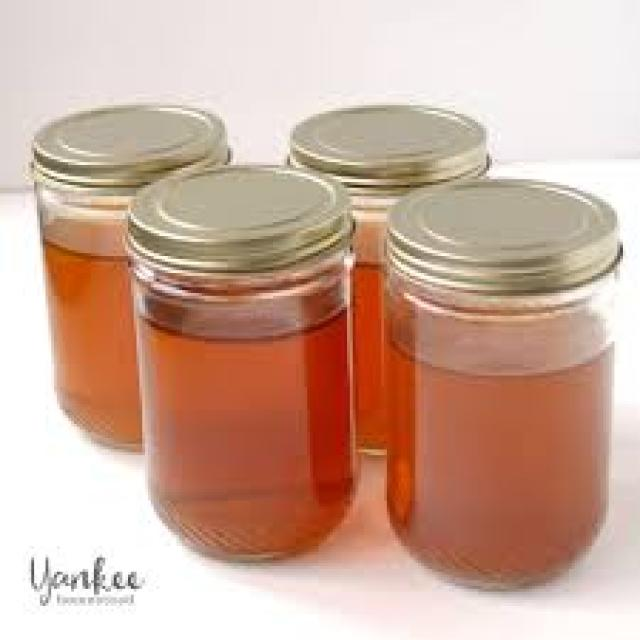glass: (119, 228, 350, 563), (381, 262, 609, 586), (29, 165, 140, 447), (344, 191, 398, 458)
metal: (379, 171, 618, 296), (120, 157, 353, 271), (282, 97, 489, 205), (29, 99, 228, 185)
